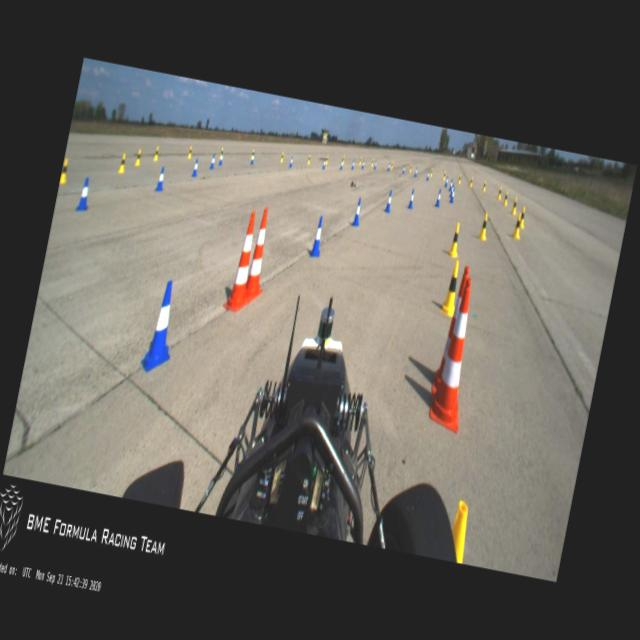blue_cone: (140, 279, 184, 375), (309, 215, 327, 259), (76, 177, 94, 213), (352, 198, 364, 226), (155, 166, 167, 192), (384, 189, 394, 212), (408, 188, 417, 209), (435, 188, 443, 208), (192, 158, 200, 176), (449, 187, 456, 204), (210, 153, 217, 169), (444, 175, 450, 187), (219, 152, 224, 166), (289, 156, 294, 168), (322, 158, 327, 170), (251, 152, 255, 166), (450, 184, 454, 198), (448, 178, 452, 192), (339, 160, 344, 170), (426, 171, 430, 180), (414, 168, 418, 177), (402, 164, 406, 173), (352, 160, 355, 170), (374, 161, 377, 170), (362, 160, 365, 169), (388, 162, 390, 172)
large_orange_cone: (426, 274, 486, 434), (429, 264, 472, 394), (222, 209, 263, 314), (242, 206, 278, 304)
yellow_cone: (446, 499, 475, 564), (440, 259, 463, 316), (448, 222, 464, 258), (478, 212, 491, 242), (512, 212, 524, 240), (60, 159, 70, 184), (518, 206, 528, 230), (118, 152, 128, 173), (134, 148, 144, 168), (512, 197, 520, 215), (502, 190, 510, 207), (153, 146, 160, 162), (497, 186, 504, 200), (187, 146, 193, 160), (482, 180, 488, 192), (280, 152, 285, 164), (469, 176, 474, 188), (250, 148, 254, 162), (324, 154, 328, 166), (442, 171, 447, 180), (429, 168, 434, 177), (458, 173, 462, 184), (220, 147, 223, 160), (307, 155, 311, 164), (408, 164, 412, 173), (358, 158, 362, 166), (391, 160, 394, 170), (371, 158, 374, 167)
